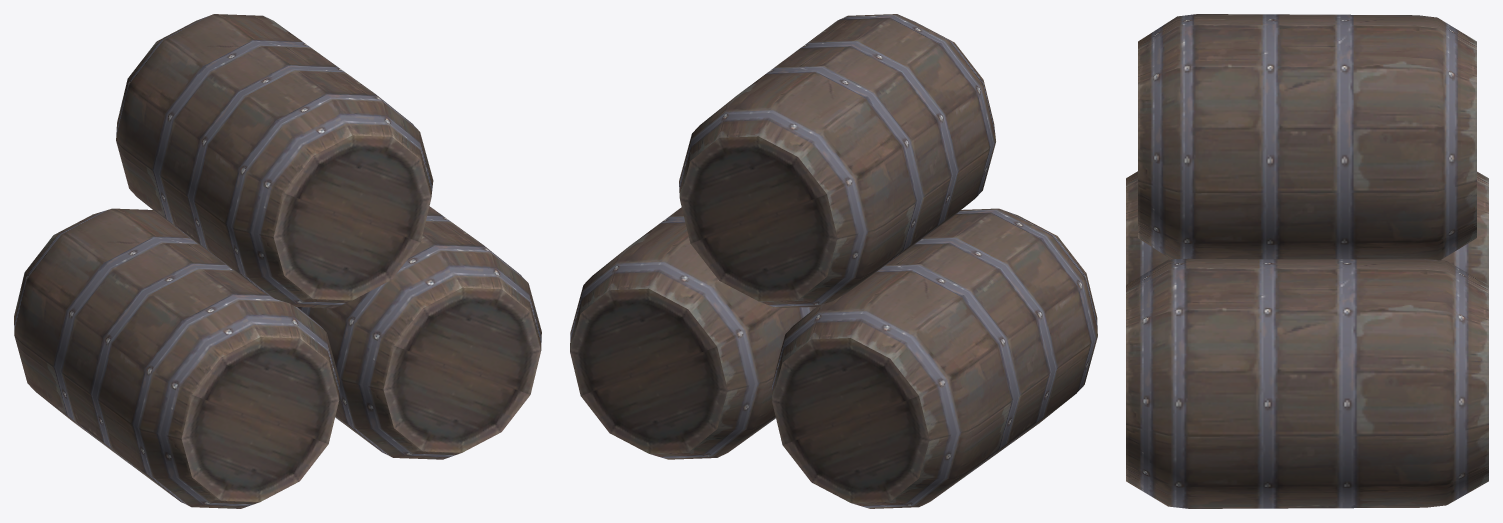
The model's file is Homeworld_Exterior_Dq_Thing_Cask_01_Vo.fbx.
3 views of the same model, side by side, from view 1: azimuth 30°, elevation 25°; view 2: azimuth 150°, elevation 25°; view 3: azimuth 270°, elevation 25° (orthographic). The views are drawn at different scales.
Parts seen in each view (by area): view 1: Area_Dq_Prop_Common_Cask_01_Vo (×3); view 2: Area_Dq_Prop_Common_Cask_01_Vo (×3); view 3: Area_Dq_Prop_Common_Cask_01_Vo (×3).
Part boxes in pixels (bbox=[...]): Area_Dq_Prop_Common_Cask_01_Vo (×3): bbox=[14, 14, 541, 508]; Area_Dq_Prop_Common_Cask_01_Vo (×3): bbox=[570, 14, 1097, 508]; Area_Dq_Prop_Common_Cask_01_Vo (×3): bbox=[1126, 14, 1488, 508].
Bounding box in the file's own units: 1.71 × 1.56 × 1.23.
